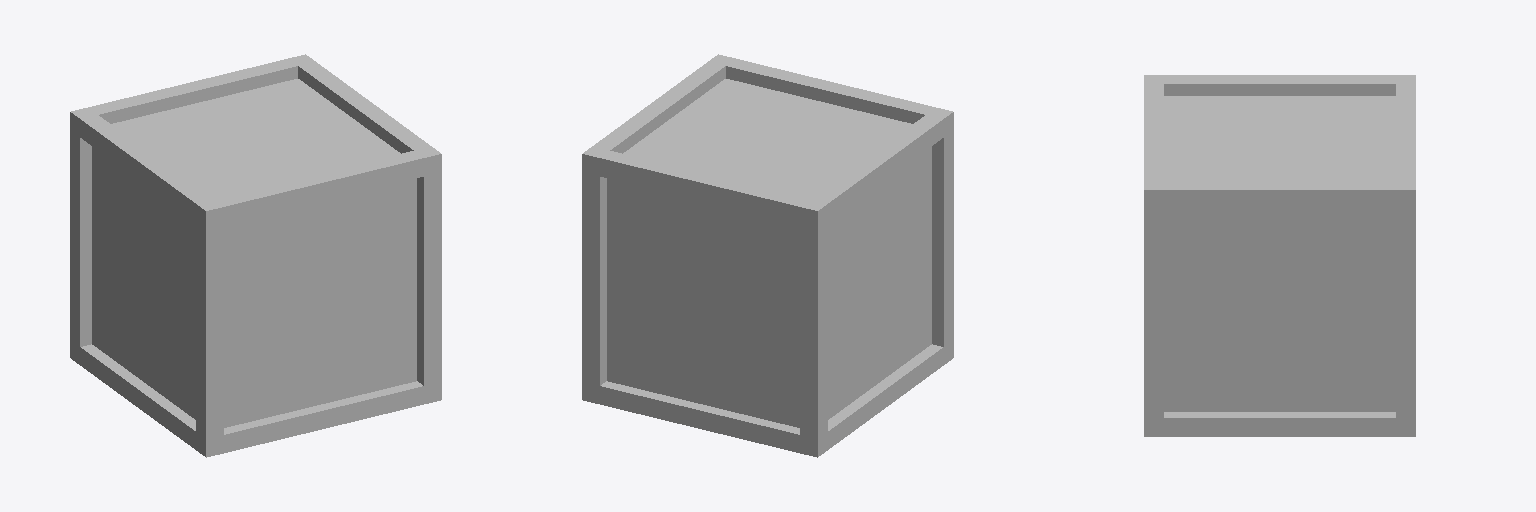
File: crate.obj
3 views of the same model, side by side, from view 1: azimuth 30°, elevation 25°; view 2: azimuth 150°, elevation 25°; view 3: azimuth 270°, elevation 25° (orthographic).
Parts seen in each view (by area): view 1: crate; view 2: crate; view 3: crate.
Part boxes in pixels (bbox=[...]): crate: bbox=[70, 54, 441, 457]; crate: bbox=[582, 54, 953, 457]; crate: bbox=[1144, 75, 1415, 436].
Size of the model in its own units: 2 by 2 by 2.